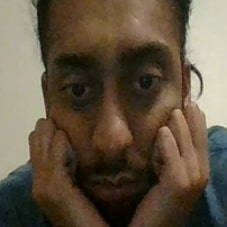drowsy: (26, 37, 213, 227)
